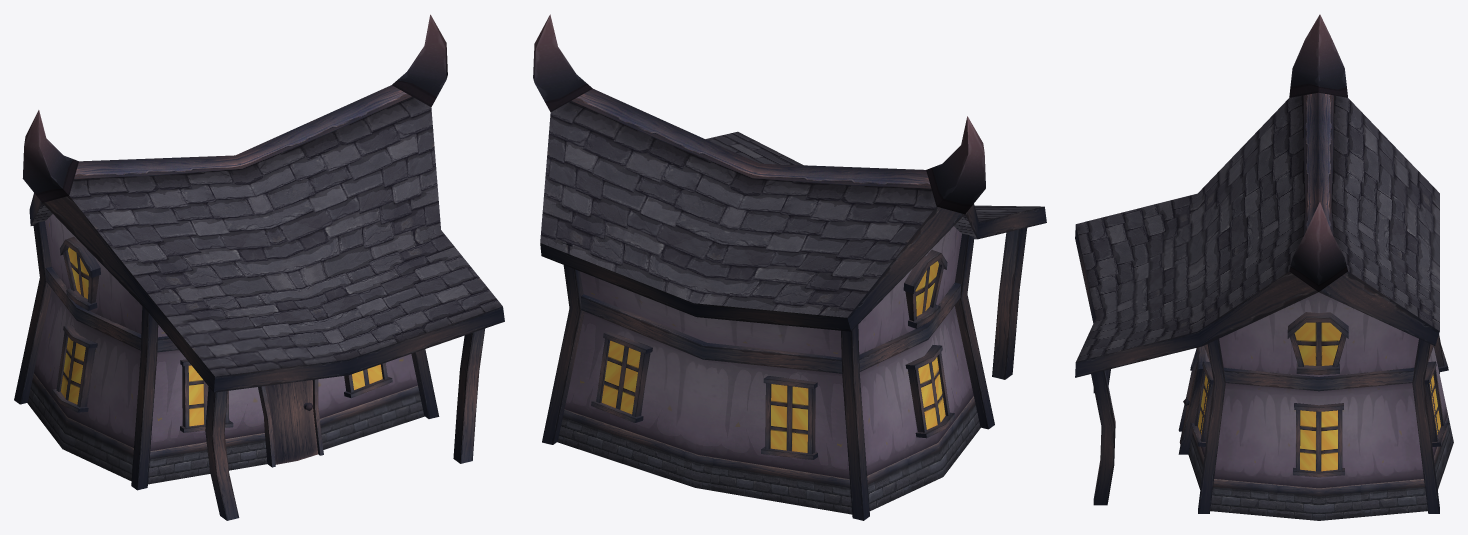
Rendered from House_E.fbx.
3 renders of one model, left to right at view 1: azimuth 30°, elevation 25°; view 2: azimuth 150°, elevation 25°; view 3: azimuth 270°, elevation 25°, orthographic. The views are drawn at different scales.
Visible parts, largest first — view 1: House_E; view 2: House_E; view 3: House_E.
Part boxes in pixels (left/top/right/bottom): House_E: left=14, top=14, right=504, bottom=520; House_E: left=533, top=14, right=1046, bottom=520; House_E: left=1075, top=14, right=1453, bottom=520.
Bounding box in the file's own units: 286 × 222 × 225.
1 material, 1 textured.
